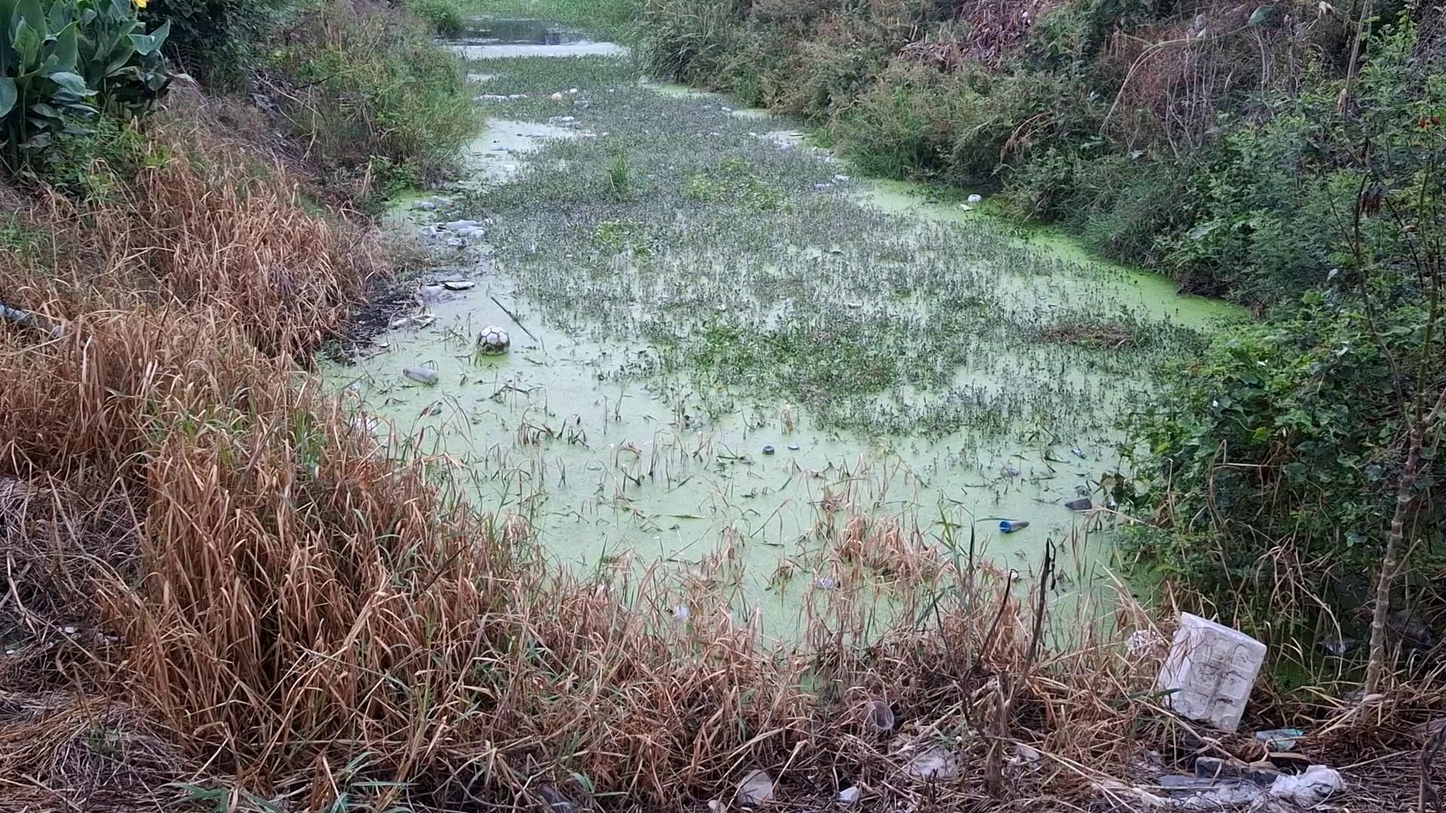ignore: (705, 243, 1143, 449), (548, 160, 827, 368), (477, 51, 754, 210)
trash: (418, 198, 502, 263), (407, 272, 485, 303), (473, 318, 525, 361), (797, 565, 849, 599), (395, 364, 446, 392), (997, 510, 1038, 537), (1059, 490, 1096, 519), (661, 600, 702, 625), (951, 189, 986, 218), (808, 171, 855, 192)
